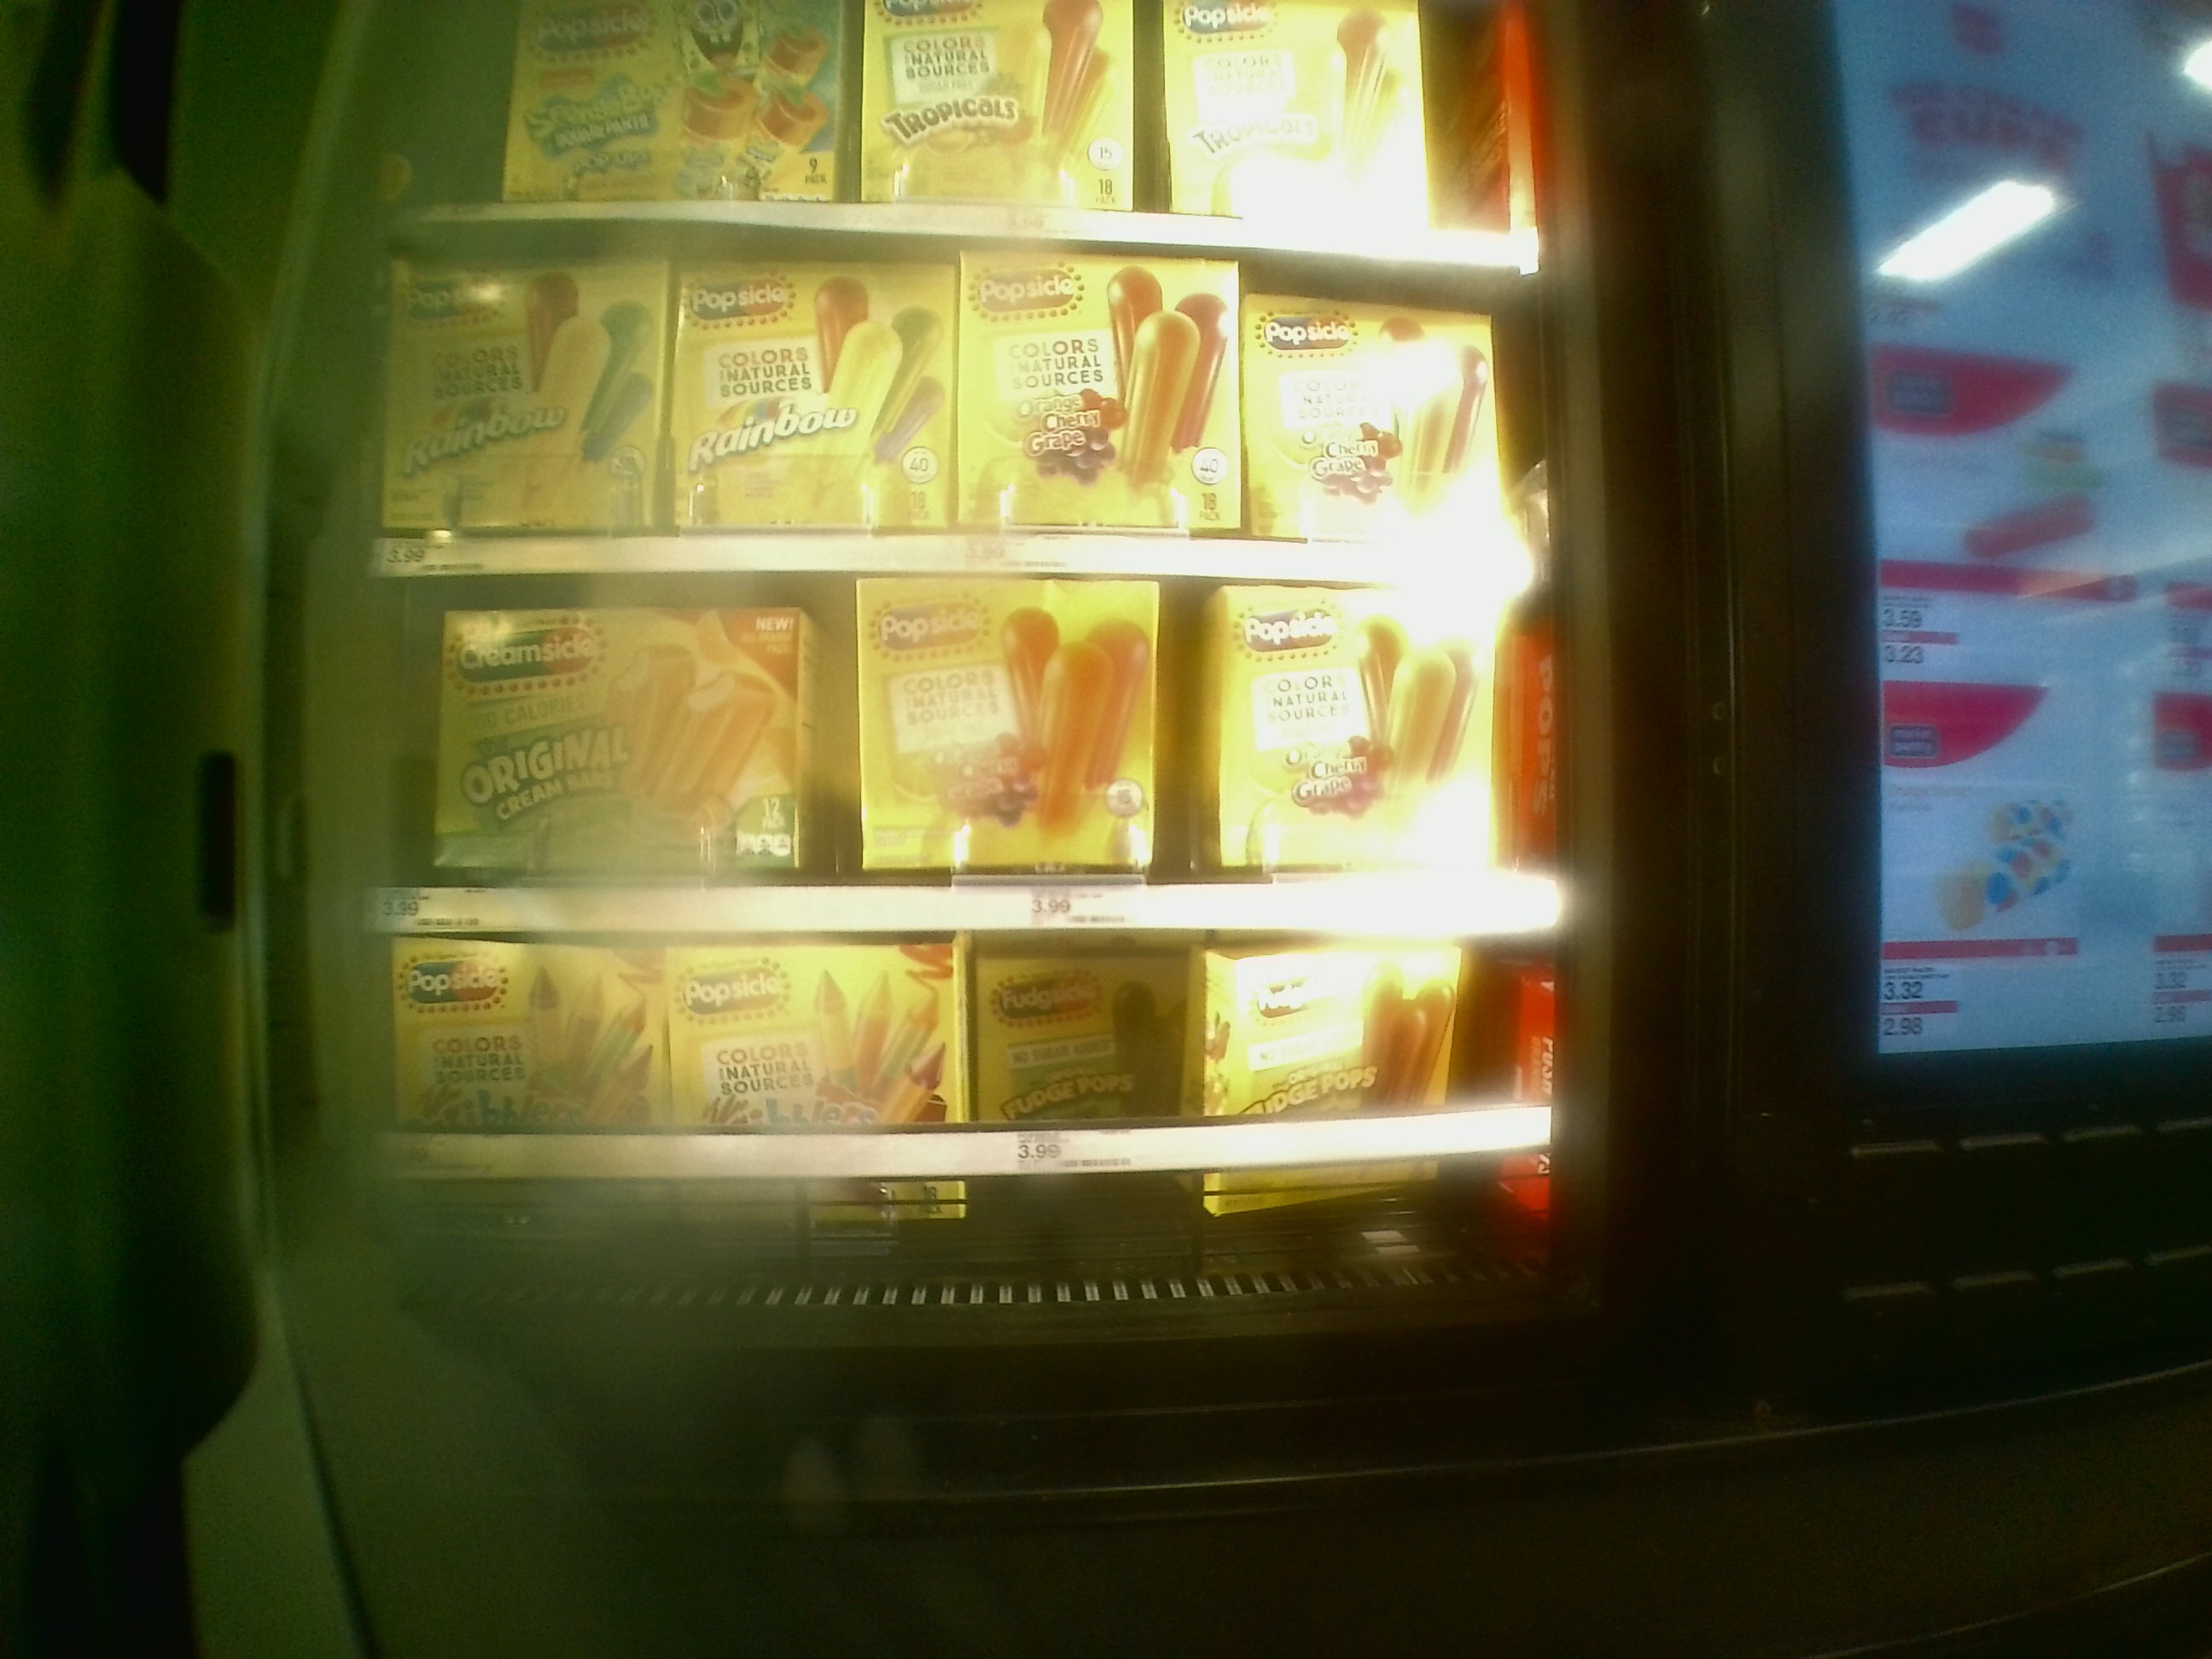frozen-food-shelf: (354, 587, 1594, 939), (355, 254, 1588, 586), (350, 938, 1583, 1180)
